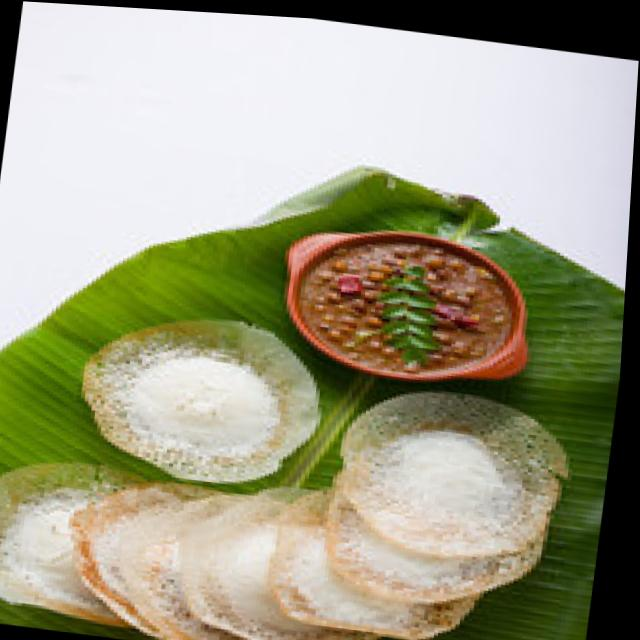AAPAM: (0, 391, 567, 640), (92, 319, 322, 480)
KURMA: (306, 245, 496, 365)
